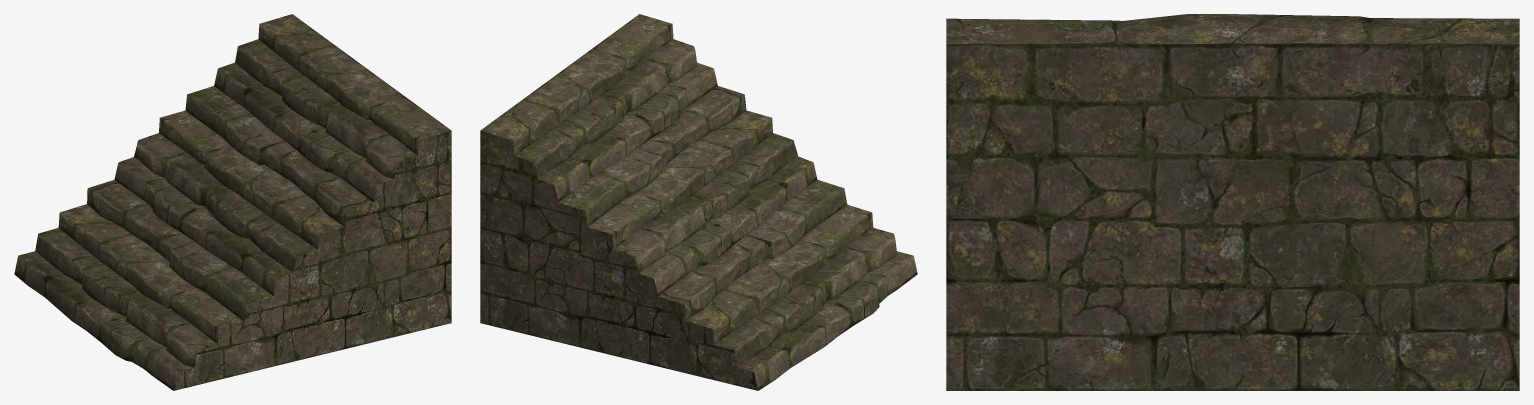
File: Staircase_01-transformed.glb
The picture shows the model from 3 angles, left to right: view 1: azimuth 30°, elevation 25°; view 2: azimuth 150°, elevation 25°; view 3: azimuth 270°, elevation 25°; orthographic projection. The views are drawn at different scales.
Parts seen in each view (by area): view 1: default; view 2: default; view 3: default.
Boxes of the visible parts, x1,y1,x2,y2 form: default: [14, 14, 451, 390]; default: [480, 14, 917, 390]; default: [946, 14, 1519, 390].
Bounding box in the file's own units: 6.2 × 4 × 6.
Materials: 2 (2 with a texture image).
